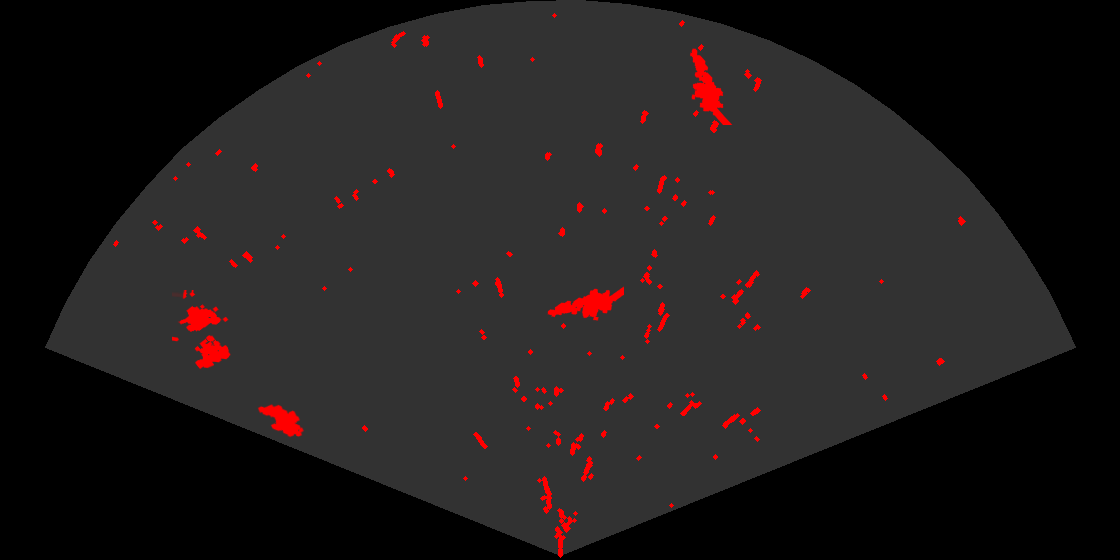AUV: (256, 403, 306, 439)
cage: (172, 290, 232, 371)
frogman: (688, 47, 734, 125), (546, 285, 624, 322)
